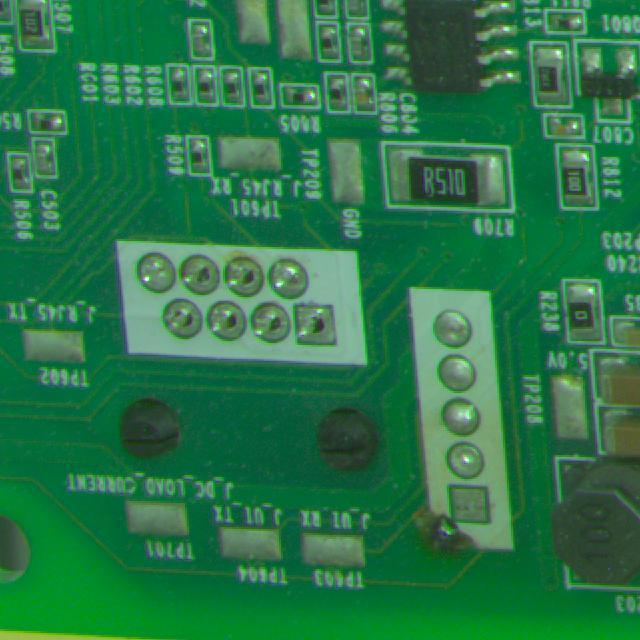Insufficient solder: (294, 300, 341, 351), (175, 251, 223, 298), (249, 302, 291, 353), (206, 300, 246, 349), (224, 253, 267, 298), (162, 300, 203, 343)
